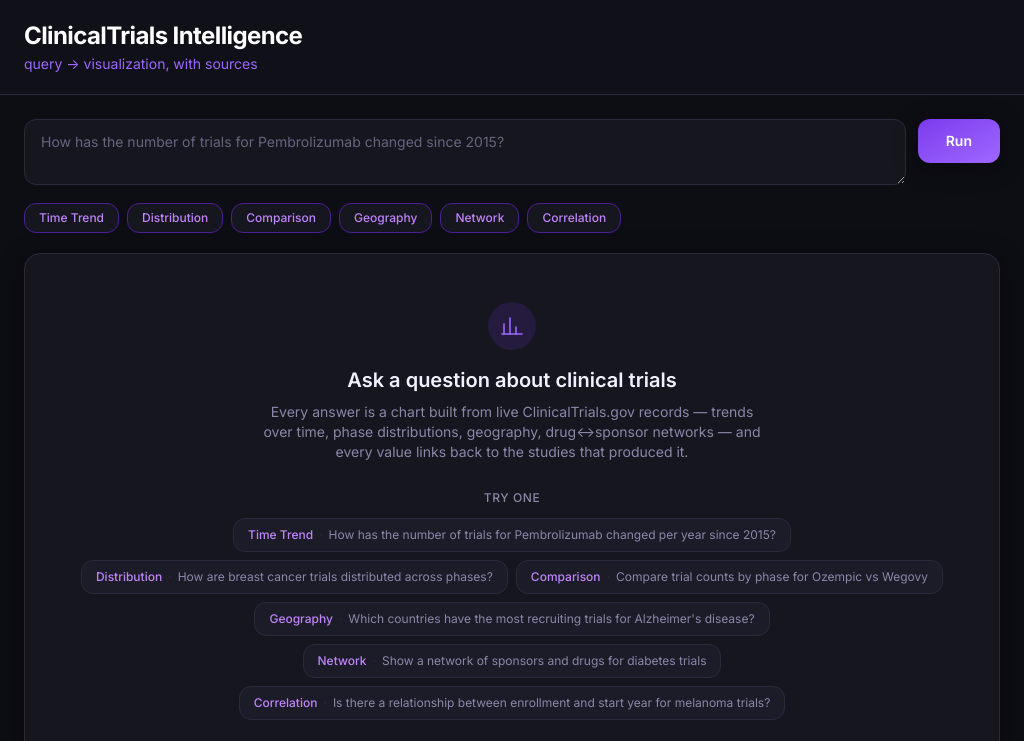
Test: results › reports an unknown visualization type instead of crashing
This screenshot has width=1024, height=741.
In the text box named "your question about clinical trials": (465, 152) [24,119,906,185], type "melanoma"
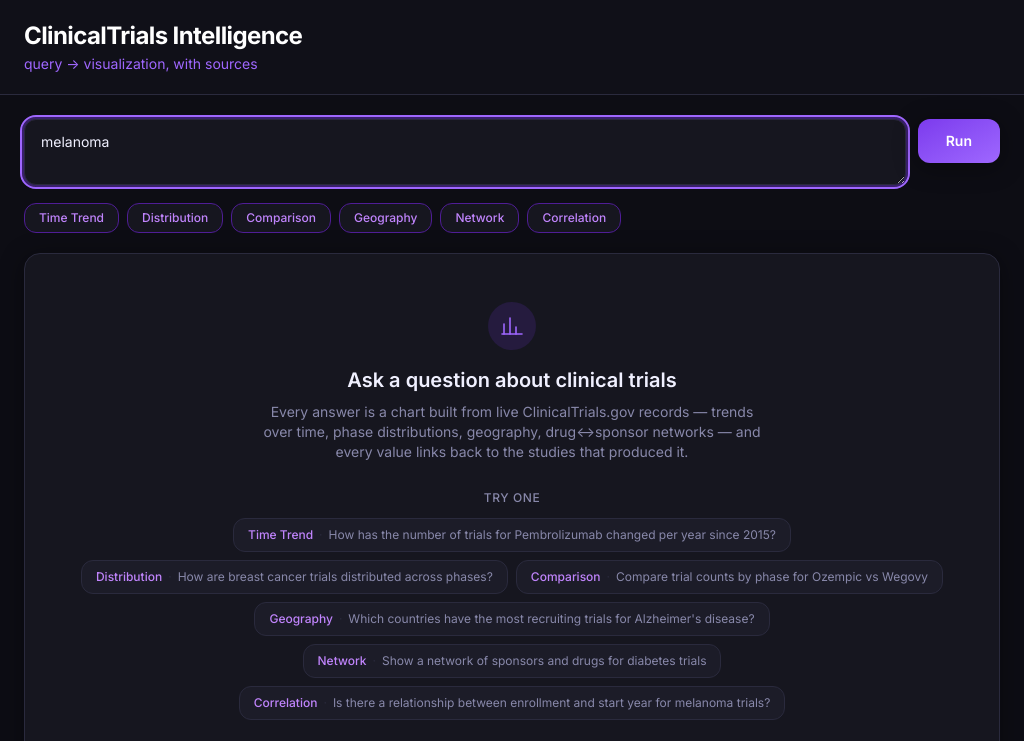
Click the button "Run": (959, 141) [918,119,1000,163]
(page scrolled)
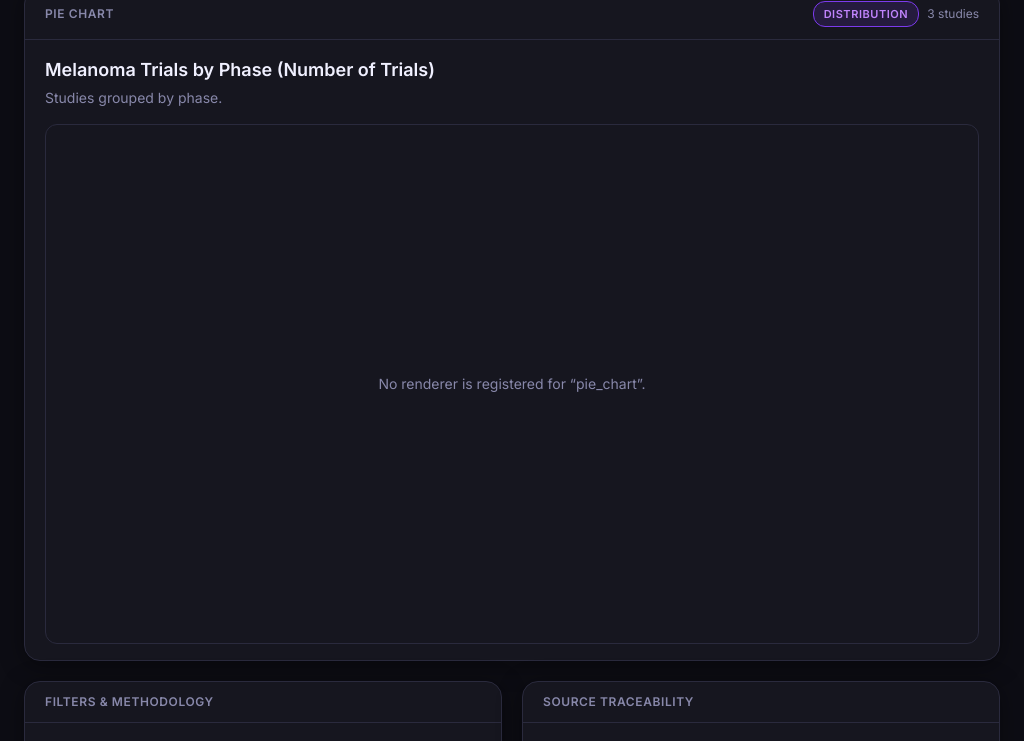
Expected: the text "No renderer is registered for “pie_chart”." is shown
